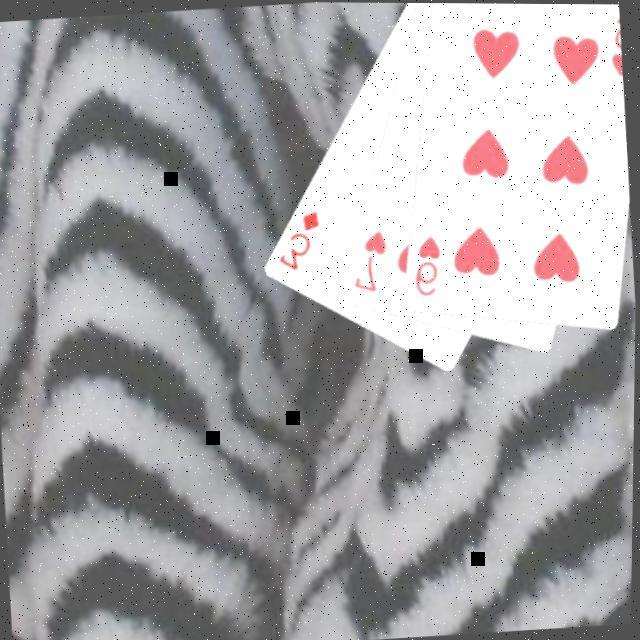3D: (270, 207, 325, 276)
6H: (406, 233, 446, 301), (603, 14, 624, 80)
7H: (345, 226, 393, 298)
